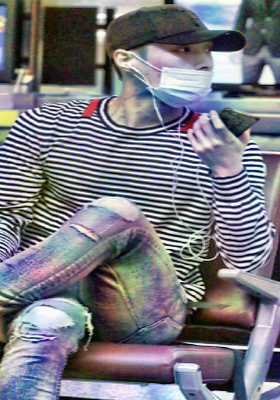mask_weared_incorrect: (130, 43, 214, 108)
